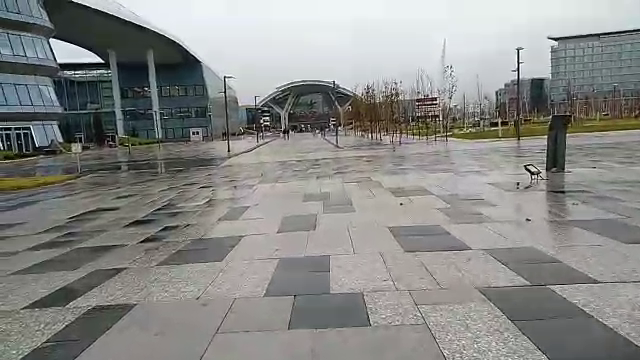mega: (256, 79, 373, 137)
